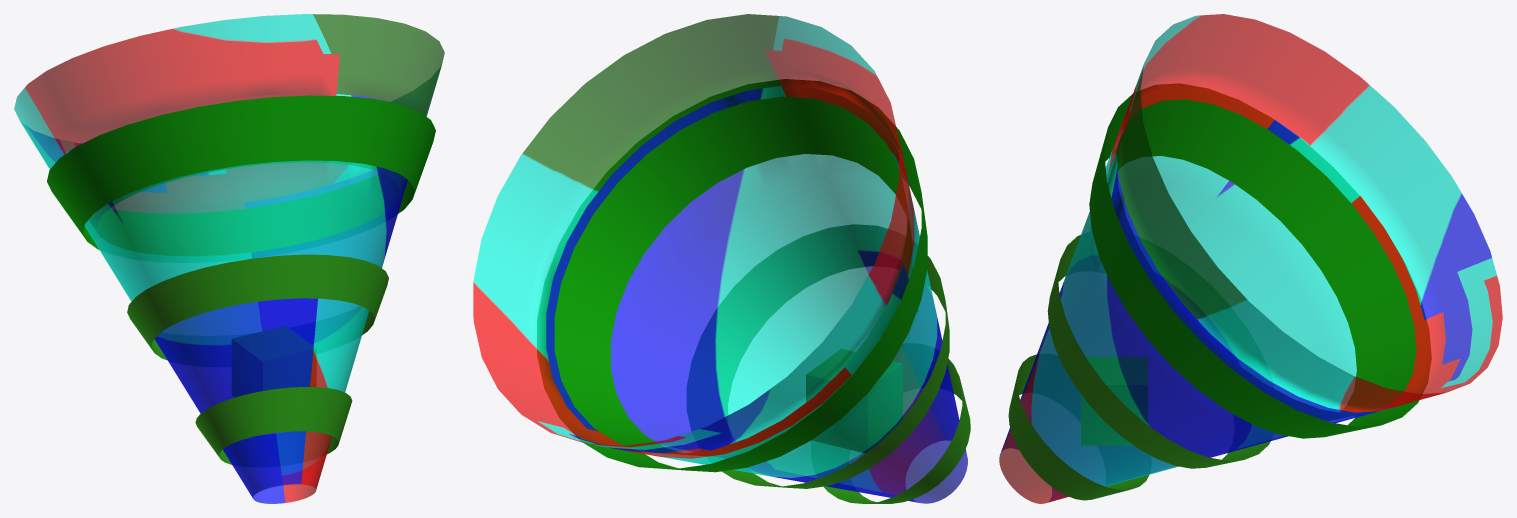
File: Multi.glb
The picture shows the model from 3 angles, left to right: view 1: azimuth 30°, elevation 25°; view 2: azimuth 150°, elevation 25°; view 3: azimuth 270°, elevation 25°; orthographic projection. The views are drawn at different scales.
Parts seen in each view (by area): view 1: Cylinder.004; view 2: Cylinder.004; view 3: Cylinder.004.
Part boxes in pixels (<box>): Cylinder.004: <box>14,14,444,503</box>; Cylinder.004: <box>473,14,970,503</box>; Cylinder.004: <box>999,14,1502,503</box>.
Size of the model in its own units: 2.65 by 3.07 by 2.93.
4 materials, 1 textured.
